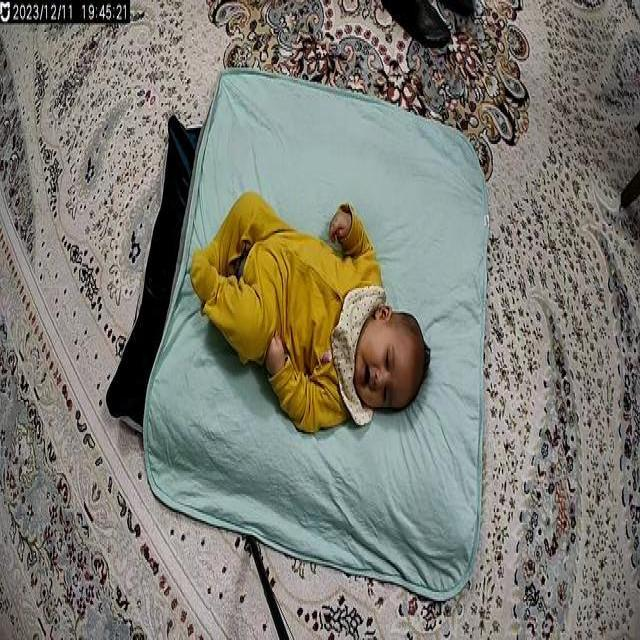baby: (184, 164, 443, 446)
